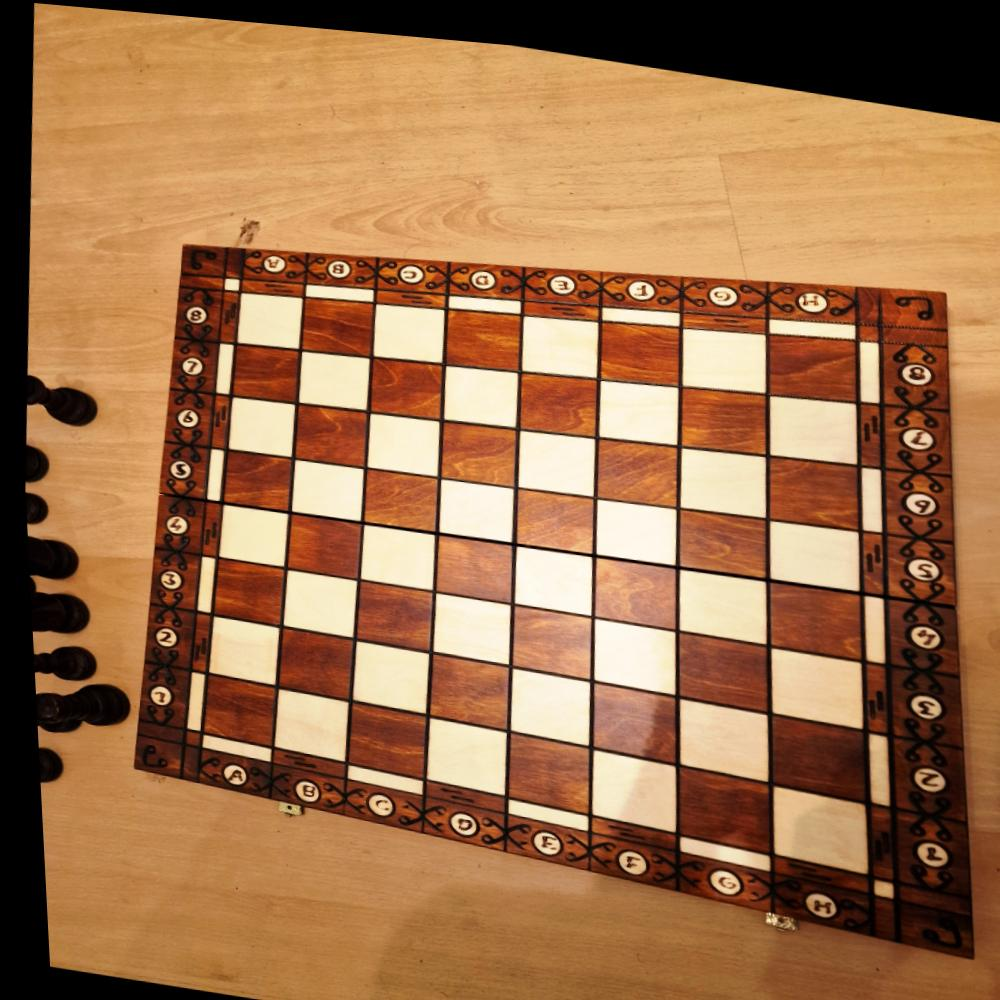chessboard-corners: (122, 239, 963, 942)
chessfield: (764, 701, 863, 786), (761, 631, 860, 715), (670, 687, 764, 771), (766, 774, 859, 858), (671, 757, 765, 839), (670, 620, 764, 699), (766, 567, 858, 647), (672, 555, 764, 634), (582, 740, 671, 821), (763, 441, 857, 517), (761, 504, 855, 579), (586, 608, 674, 686), (504, 657, 586, 740), (586, 672, 670, 753), (585, 546, 676, 619), (765, 378, 857, 450), (420, 710, 505, 787), (503, 724, 584, 804), (674, 374, 765, 443), (422, 646, 504, 722), (767, 318, 858, 386), (674, 435, 761, 506), (595, 364, 679, 437), (506, 536, 590, 609), (592, 426, 677, 498), (343, 634, 425, 708), (674, 498, 764, 565), (425, 585, 507, 657), (677, 315, 763, 382), (428, 526, 511, 595), (341, 697, 418, 771), (269, 622, 349, 693), (590, 486, 674, 553), (349, 573, 427, 645), (593, 309, 678, 375), (507, 597, 586, 668), (511, 478, 592, 547), (512, 419, 592, 488), (516, 303, 597, 370), (275, 565, 353, 634), (354, 515, 432, 584), (433, 470, 513, 537), (433, 414, 513, 479), (438, 299, 519, 363), (358, 405, 438, 469), (437, 358, 517, 422), (268, 687, 341, 757), (514, 364, 595, 426), (203, 609, 274, 679), (198, 673, 269, 743), (288, 397, 364, 462), (211, 498, 284, 565), (284, 507, 358, 573), (366, 352, 442, 415), (366, 298, 442, 361), (293, 347, 369, 407), (287, 453, 359, 515), (208, 557, 279, 619), (216, 446, 288, 507), (359, 465, 433, 524), (298, 293, 372, 350), (229, 391, 295, 454), (232, 288, 300, 345), (231, 342, 293, 396)
innerChessboard: (194, 289, 862, 856)
